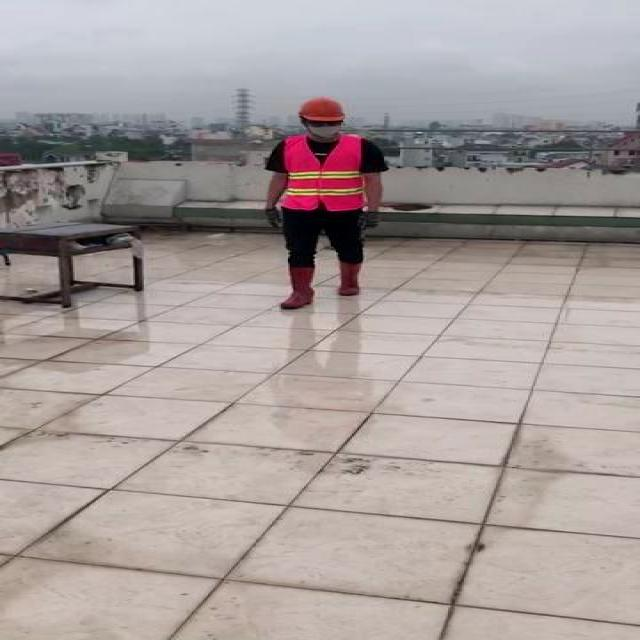boots: (279, 266, 315, 308), (336, 258, 364, 297)
face_mask: (304, 116, 347, 141)
glasses: (304, 117, 343, 130)
hand_glove: (356, 208, 380, 231), (269, 206, 279, 231)
head_helmet: (298, 96, 346, 121)
person: (258, 95, 388, 315)
vest: (282, 133, 364, 212)
